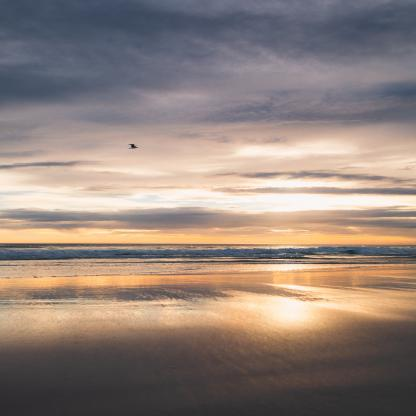bird: (126, 142, 140, 150)
